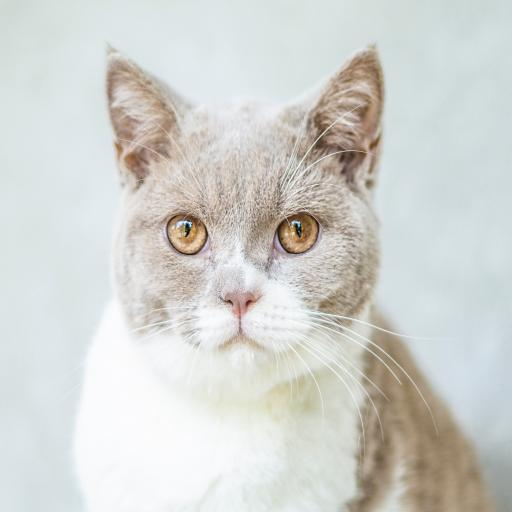cats: (74, 47, 494, 512)
